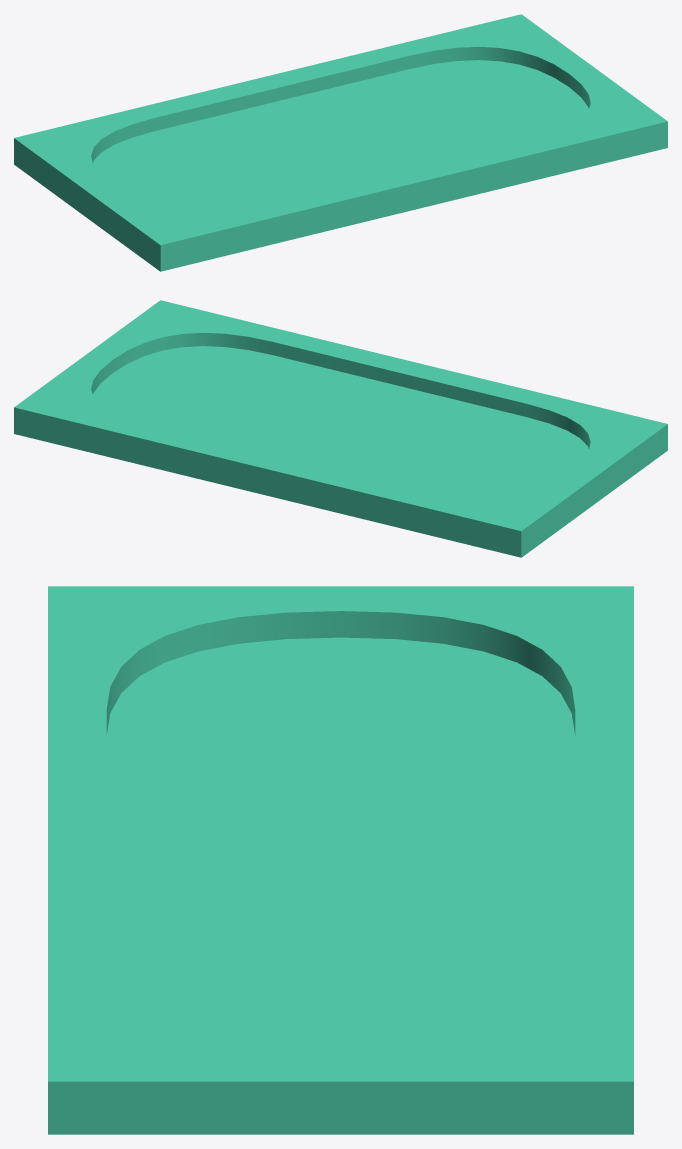
Rendered from Floor_2x1m_B.FBX.
3 renders of one model, top to bottom at view 1: azimuth 30°, elevation 25°; view 2: azimuth 150°, elevation 25°; view 3: azimuth 270°, elevation 25°, orthographic. The views are drawn at different scales.
Visible parts, largest first — view 1: Floor_2x1m_B; view 2: Floor_2x1m_B; view 3: Floor_2x1m_B.
Part boxes in pixels (box(x1,y1,x2,y2)): Floor_2x1m_B: box(14, 14, 667, 271); Floor_2x1m_B: box(14, 300, 667, 557); Floor_2x1m_B: box(48, 586, 633, 1134).
Bounding box in the file's own units: 200 × 10 × 100.
